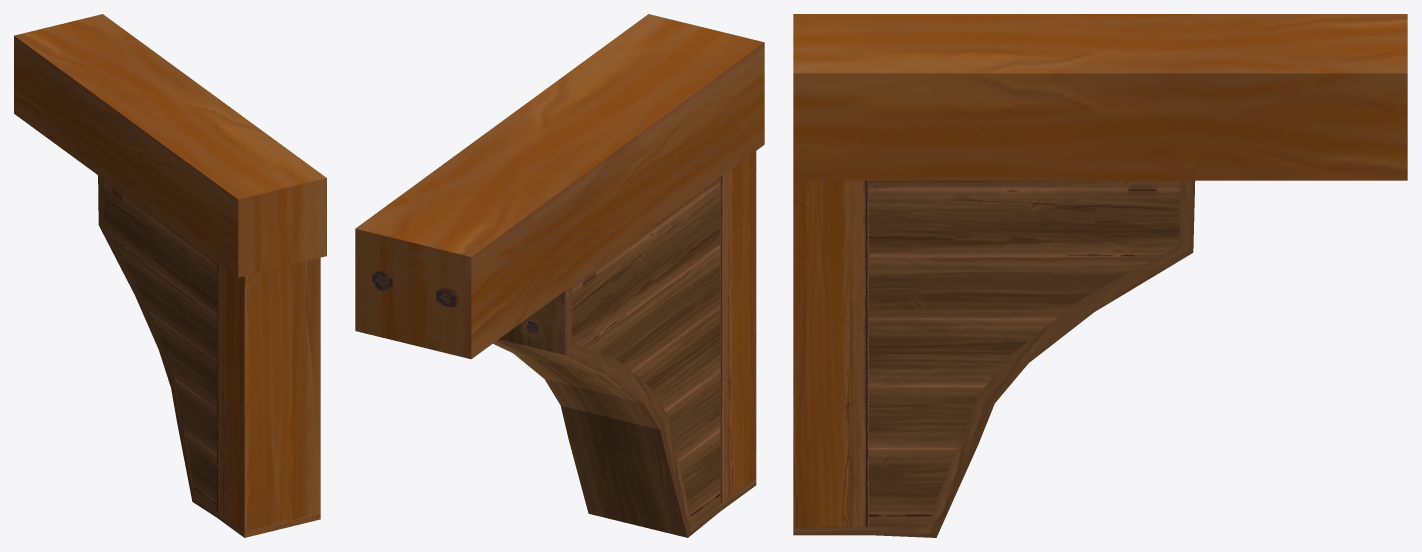
File: WoodFrame_A_01.fbx
3 views of the same model, side by side, from view 1: azimuth 30°, elevation 25°; view 2: azimuth 150°, elevation 25°; view 3: azimuth 270°, elevation 25° (orthographic). The views are drawn at different scales.
Parts seen in each view (by area): view 1: WoodFrame_A_01; view 2: WoodFrame_A_01; view 3: WoodFrame_A_01.
Boxes of the visible parts, left/top/right/bottom form: WoodFrame_A_01: left=14, top=14, right=326, bottom=537; WoodFrame_A_01: left=355, top=14, right=764, bottom=537; WoodFrame_A_01: left=793, top=14, right=1407, bottom=537.
Bounding box in the file's own units: 39.35 × 145 × 172.
1 material, 1 textured.
